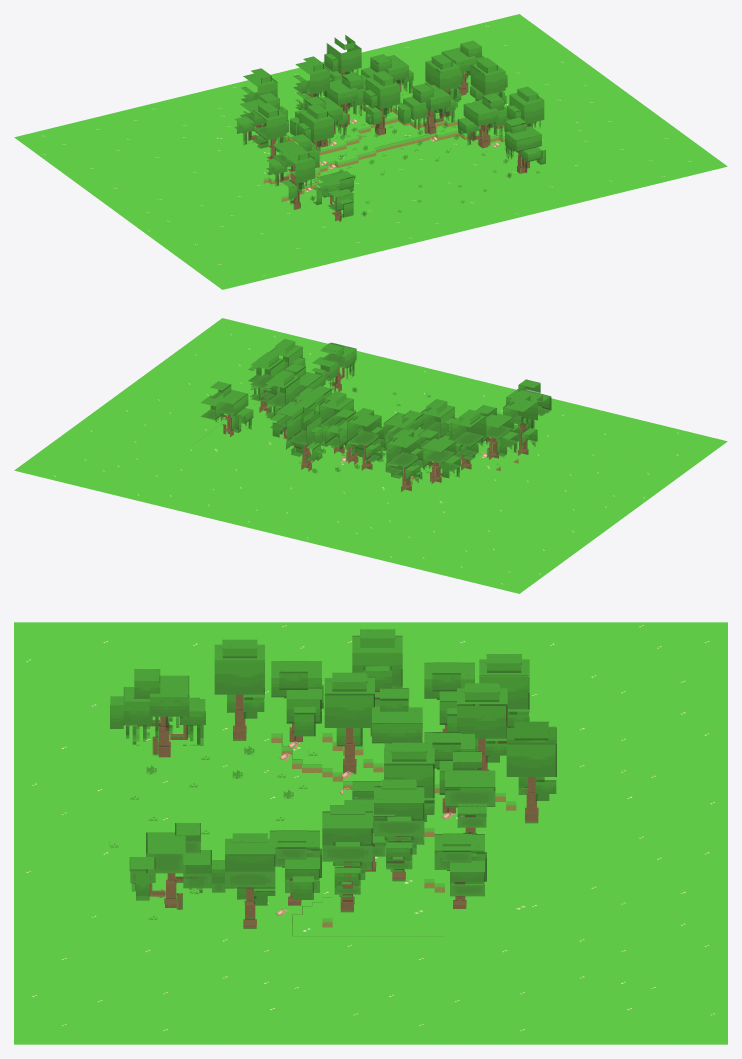
Rendered from Florest-CrP9B6i1.glb.
3 renders of one model, top to bottom at view 1: azimuth 30°, elevation 25°; view 2: azimuth 150°, elevation 25°; view 3: azimuth 270°, elevation 25°, orthographic. The views are drawn at different scales.
Visible parts, largest first — view 1: Layer1, Layer2; view 2: Layer1; view 3: Layer1, Layer2.
Part boxes in pixels (left/top/right/bottom): Layer1: left=14, top=14, right=727, bottom=289; Layer2: left=289, top=102, right=539, bottom=216; Layer1: left=14, top=318, right=727, bottom=593; Layer1: left=14, top=622, right=727, bottom=1044; Layer2: left=109, top=741, right=455, bottom=919.
Size of the model in its own units: 196 by 27.31 by 140.
2 materials, 2 textured.
